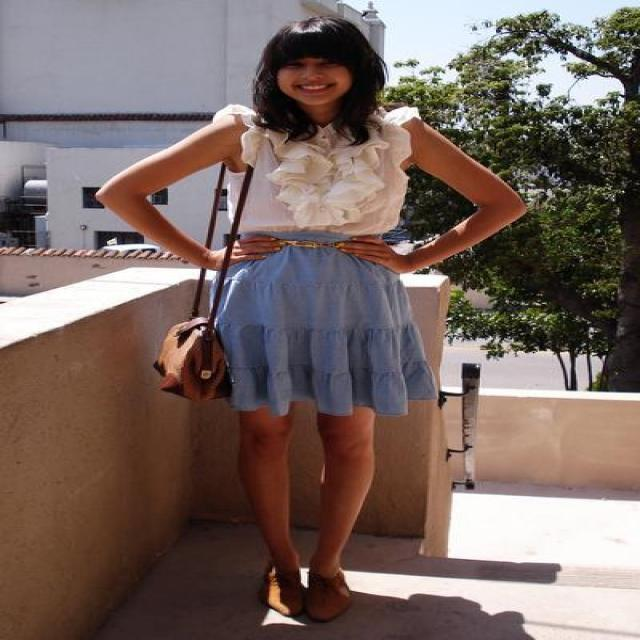bag: (144, 157, 253, 400)
shirt: (211, 104, 419, 237)
shoe: (268, 564, 354, 618)
skirt: (213, 223, 438, 415)
